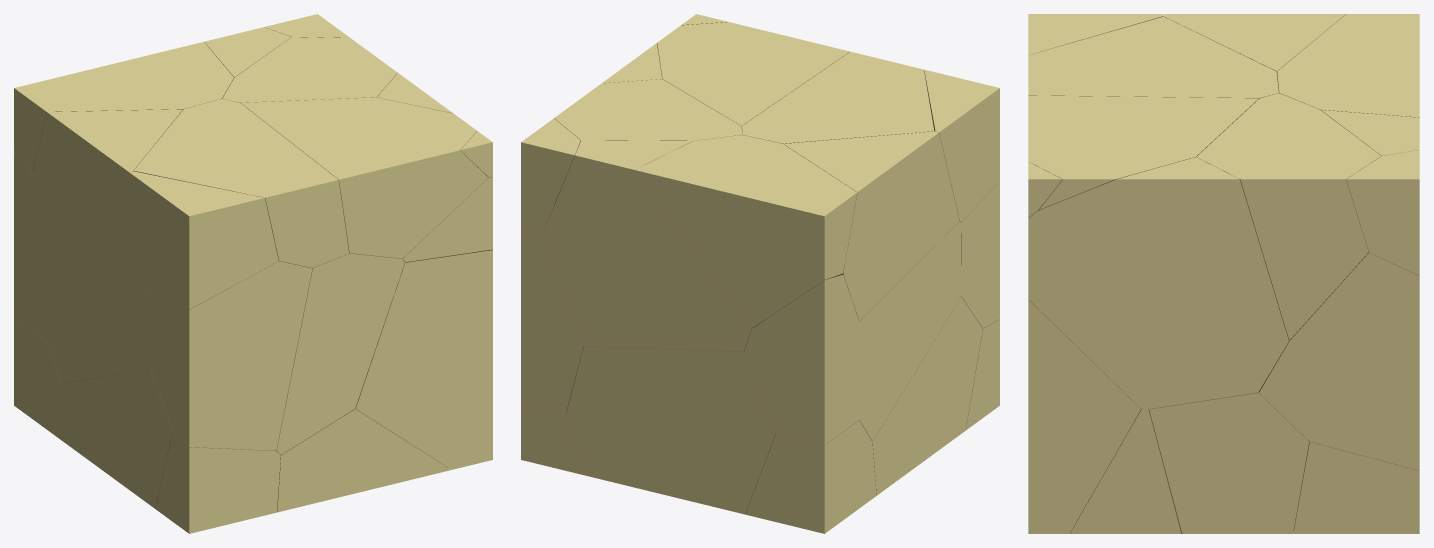
The model's file is FracturesSquares2m.fbx.
3 views of the same model, side by side, from view 1: azimuth 30°, elevation 25°; view 2: azimuth 150°, elevation 25°; view 3: azimuth 270°, elevation 25° (orthographic). The views are drawn at different scales.
Parts seen in each view (by area): view 1: Cube.010_cell.017, Cube.010_cell.009, Cube.010_cell.019, Cube.010_cell.020, Cube.010_cell.010, Cube.010_cell.001, Cube.010_cell.022, Cube.010_cell.013, Cube.010_cell.025, Cube.010_cell.008, Cube.010_cell.018, Cube.010_cell (+7 smaller); view 2: Cube.010_cell.024, Cube.010_cell.012, Cube.010_cell.013, Cube.010_cell.010, Cube.010_cell.011, Cube.010_cell.019, Cube.010_cell.020, Cube.010_cell.025, Cube.010_cell.008, Cube.010_cell.002, Cube.010_cell.014, Cube.010_cell.023 (+6 smaller); view 3: Cube.010_cell.016, Cube.010_cell.014, Cube.010_cell.023, Cube.010_cell.015, Cube.010_cell.017, Cube.010_cell.019, Cube.010_cell.020, Cube.010_cell.013, Cube.010_cell.006, Cube.010_cell.021, Cube.010_cell.007, Cube.010_cell.010 (+3 smaller).
Part boxes in pixels (x1,y1,x2,y2): Cube.010_cell.017: (355,250,492,469); Cube.010_cell.009: (150,261,312,450); Cube.010_cell.019: (241,97,488,258); Cube.010_cell.020: (134,99,348,267); Cube.010_cell.010: (33,109,183,290); Cube.010_cell.001: (128,171,278,309); Cube.010_cell.022: (276,253,404,454); Cube.010_cell.013: (14,42,233,171); Cube.010_cell.025: (48,244,150,383); Cube.010_cell.008: (62,368,172,508); Cube.010_cell.018: (277,408,450,512); Cube.010_cell: (155,433,280,533); Cube.010_cell.024: (543,140,752,351); Cube.010_cell.012: (566,346,776,514); Cube.010_cell.013: (635,135,857,328); Cube.010_cell.010: (783,131,959,320); Cube.010_cell.011: (744,274,859,445); Cube.010_cell.019: (657,22,849,126); Cube.010_cell.020: (742,51,934,143); Cube.010_cell.025: (859,221,961,441); Cube.010_cell.008: (872,297,982,495); Cube.010_cell.002: (745,420,876,533); Cube.010_cell.014: (521,207,583,413); Cube.010_cell.023: (554,79,742,205); Cube.010_cell.016: (1028,157,1288,409); Cube.010_cell.014: (1259,252,1419,470); Cube.010_cell.023: (1196,93,1380,342); Cube.010_cell.015: (1149,392,1309,533); Cube.010_cell.017: (1028,299,1140,533); Cube.010_cell.019: (1028,95,1258,210); Cube.010_cell.020: (1028,16,1278,99); Cube.010_cell.013: (1277,14,1419,117); Cube.010_cell.006: (1293,441,1419,533); Cube.010_cell.021: (1070,408,1182,533); Cube.010_cell.007: (1346,150,1419,275); Cube.010_cell.010: (1163,14,1345,73).
Size of the model in its own units: 200 by 200 by 200.
